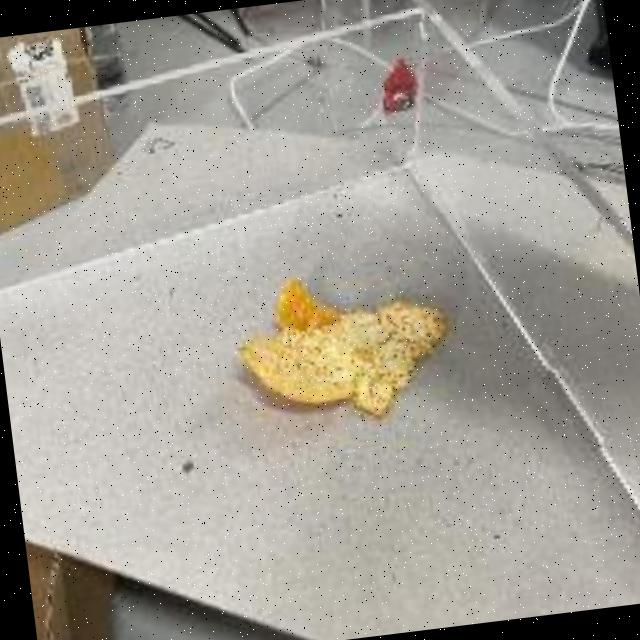orange-peel: (225, 253, 461, 436)
